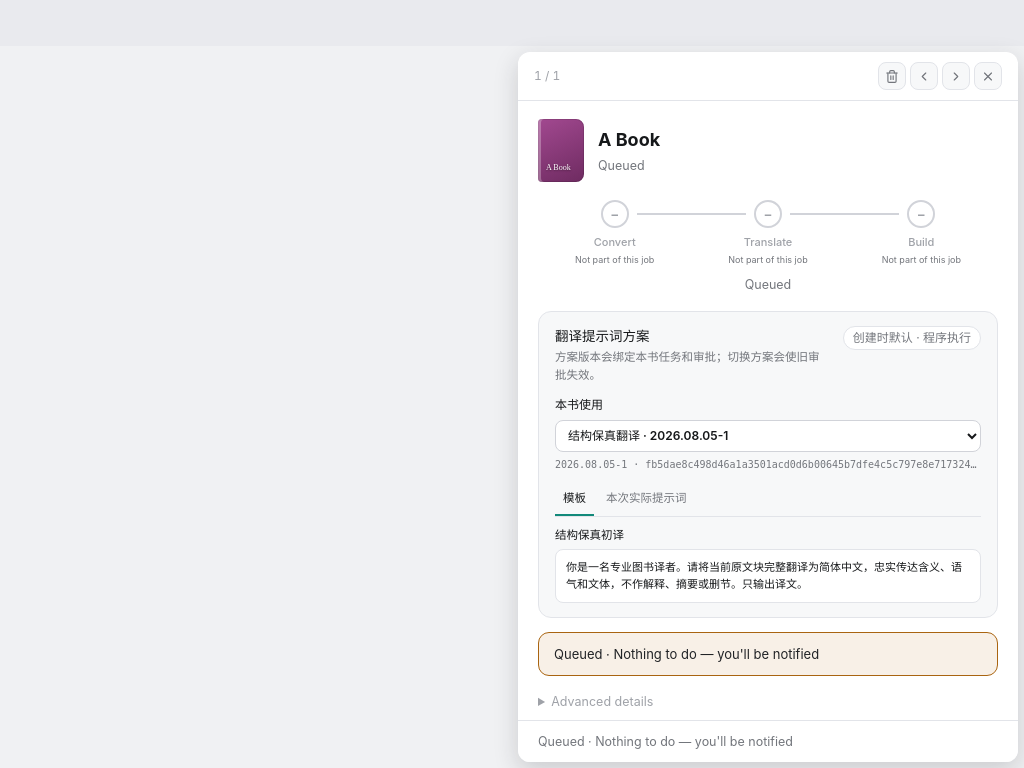
Test: BookDrawer translation prompt pack › shows the bound template, labels its source, and generates the actual prompt only on demand
Expected: the text "创建时默认 · 程序执行" is shown, [843,326,981,350]
Expected: the text "你是一名专业图书译者。请将当前原文块完整翻译为简体中文，忠实传达含义、语气和文体，不作解释、摘要或删节。只输出译文。" is shown, [555,549,981,603]
Click the button "本次实际提示词" at (646, 500), box [598,484,694,516]
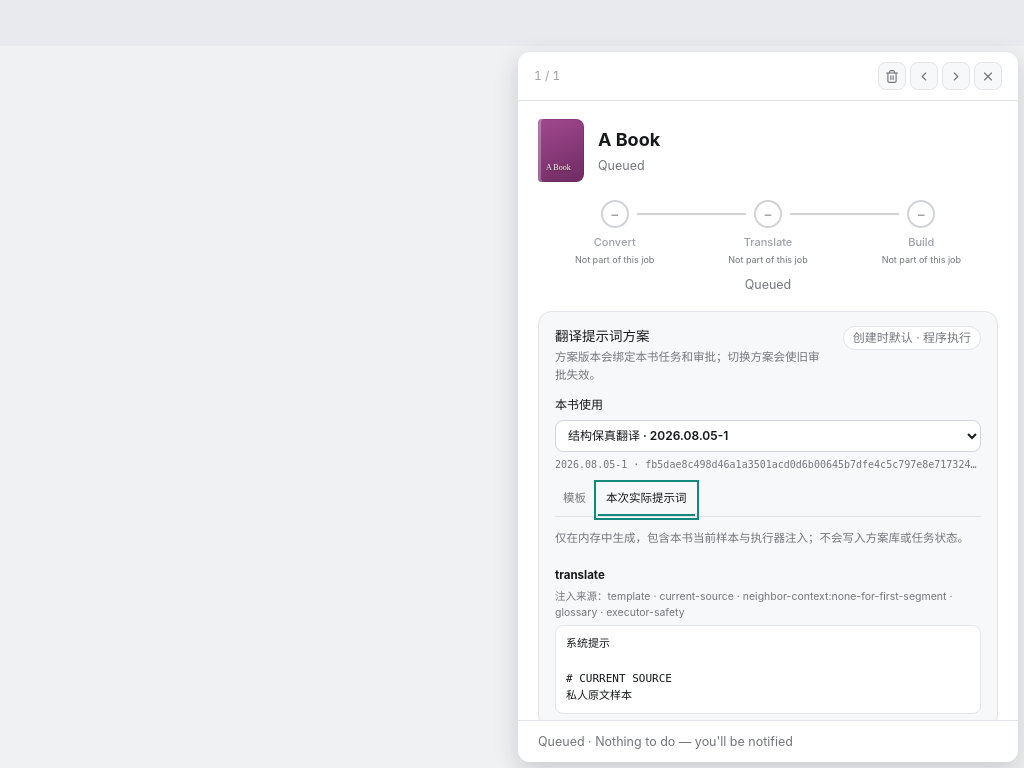
Expected: the text "系统提示 # CURRENT SOURCE 私人原文样本" is shown, [555,626,981,714]
Expected: the text "template · current-source" is shown, [555,590,952,619]
